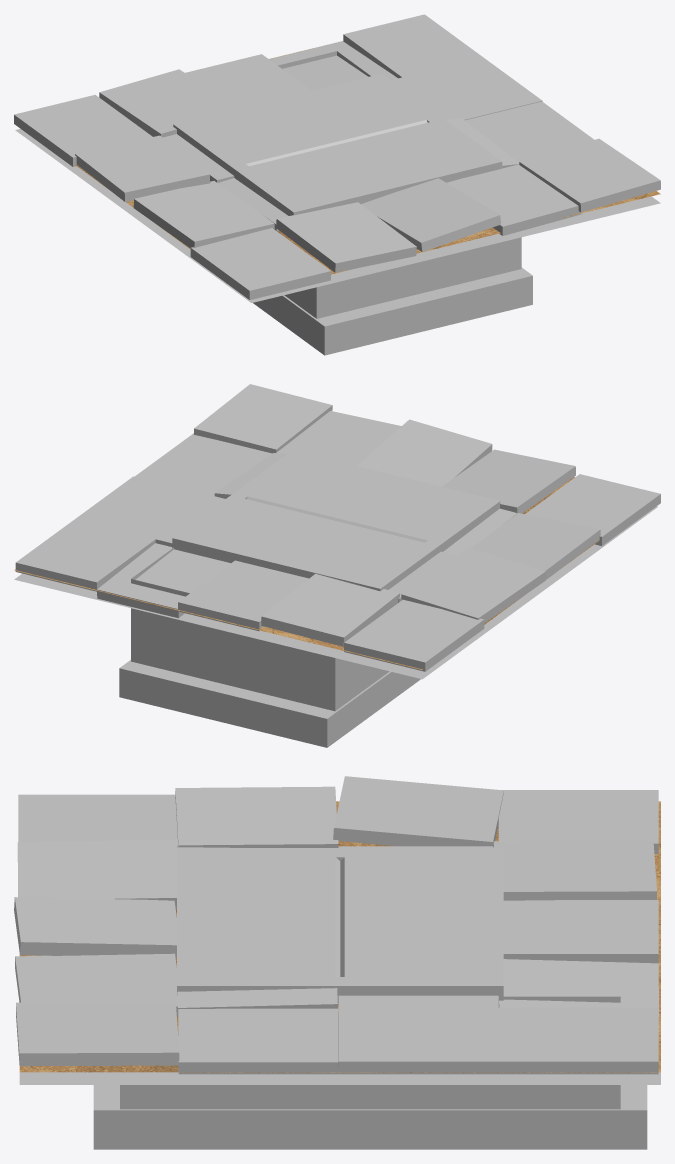
Rendered from Floor_Sliding_Door_trap_4m.fbx.
The picture shows the model from 3 angles, top to bottom: view 1: azimuth 30°, elevation 25°; view 2: azimuth 150°, elevation 25°; view 3: azimuth 270°, elevation 25°; orthographic projection. The views are drawn at different scales.
Visible parts, largest first — view 1: Geom_tiles_4m, Button_Frame6, Sliding_Door_01, Sliding_Door_02, Button_Frame5, polySurface187, Geom_Sand_4m1, Geom_Sand_4m; view 2: Geom_tiles_4m, polySurface187, Button_Frame6, Sliding_Door_02, Sliding_Door_01, Button_Frame5, Geom_Sand_4m1, Geom_Sand_4m; view 3: Geom_tiles_4m, Button_Frame6, Sliding_Door_02, Sliding_Door_01, Button_Frame5, polySurface187, Geom_Sand_4m1, Geom_Sand_4m.
Boxes of the visible parts, <box> form: Geom_tiles_4m: <box>14,14,660,299</box>; Button_Frame6: <box>253,267,532,355</box>; Sliding_Door_01: <box>196,83,427,166</box>; Sliding_Door_02: <box>249,122,479,203</box>; Button_Frame5: <box>173,73,502,215</box>; polySurface187: <box>278,51,521,318</box>; Geom_Sand_4m1: <box>15,129,660,302</box>; Geom_Sand_4m: <box>75,48,660,274</box>; Geom_tiles_4m: <box>15,384,660,671</box>; polySurface187: <box>131,547,389,711</box>; Button_Frame6: <box>119,660,420,747</box>; Sliding_Door_02: <box>247,459,478,542</box>; Sliding_Door_01: <box>194,499,424,579</box>; Button_Frame5: <box>172,450,500,591</box>; Geom_Sand_4m1: <box>14,506,657,679</box>; Geom_Sand_4m: <box>14,477,599,669</box>; Geom_tiles_4m: <box>14,776,659,1074</box>; Button_Frame6: <box>93,1085,647,1149</box>; Sliding_Door_02: <box>198,857,340,976</box>; Sliding_Door_01: <box>340,857,481,976</box>; Button_Frame5: <box>177,848,503,1005</box>; polySurface187: <box>120,996,620,1109</box>; Geom_Sand_4m1: <box>19,1072,660,1084</box>; Geom_Sand_4m: <box>19,801,660,1072</box>.
Bounding box in the file's own units: 407 × 116 × 403.
